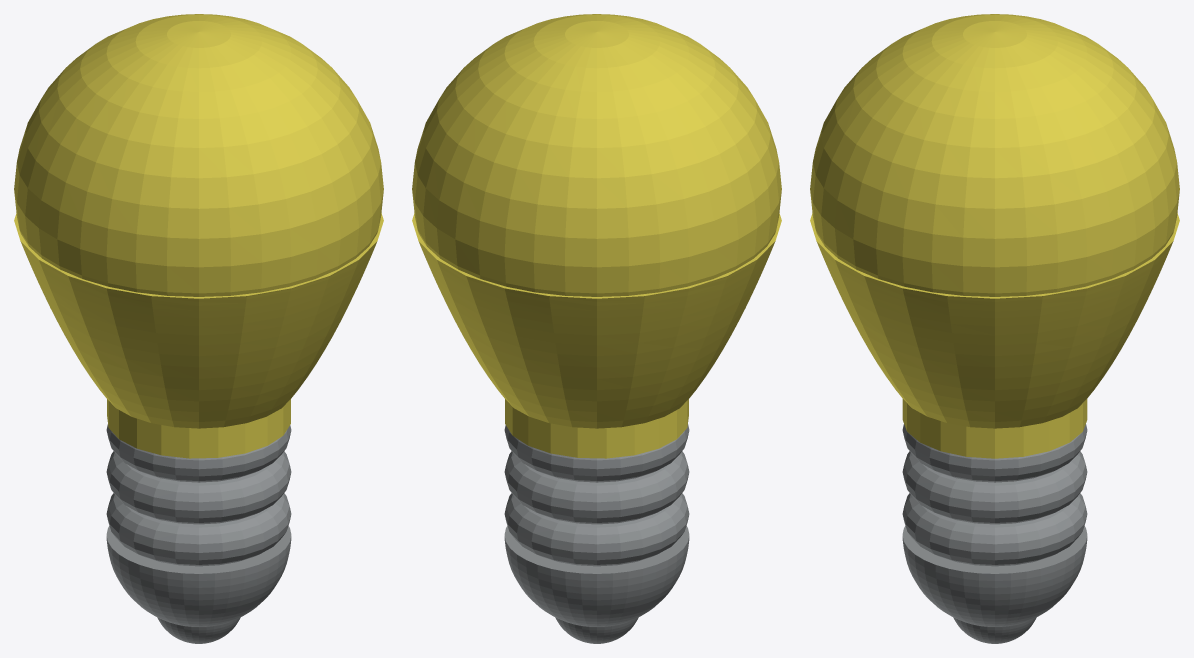
The model's file is lightbulb.glb.
3 views of the same model, side by side, from view 1: azimuth 30°, elevation 25°; view 2: azimuth 150°, elevation 25°; view 3: azimuth 270°, elevation 25° (orthographic).
Visible parts, largest first — view 1: Mesh_Mesh_head_geo.001_lambert2SG.001; view 2: Mesh_Mesh_head_geo.001_lambert2SG.001; view 3: Mesh_Mesh_head_geo.001_lambert2SG.001.
Boxes of the visible parts, x1,y1,x2,y2 form: Mesh_Mesh_head_geo.001_lambert2SG.001: (14, 14, 383, 643); Mesh_Mesh_head_geo.001_lambert2SG.001: (412, 14, 781, 643); Mesh_Mesh_head_geo.001_lambert2SG.001: (810, 14, 1179, 643).
Size of the model in its own units: 8 by 14.5 by 8.
